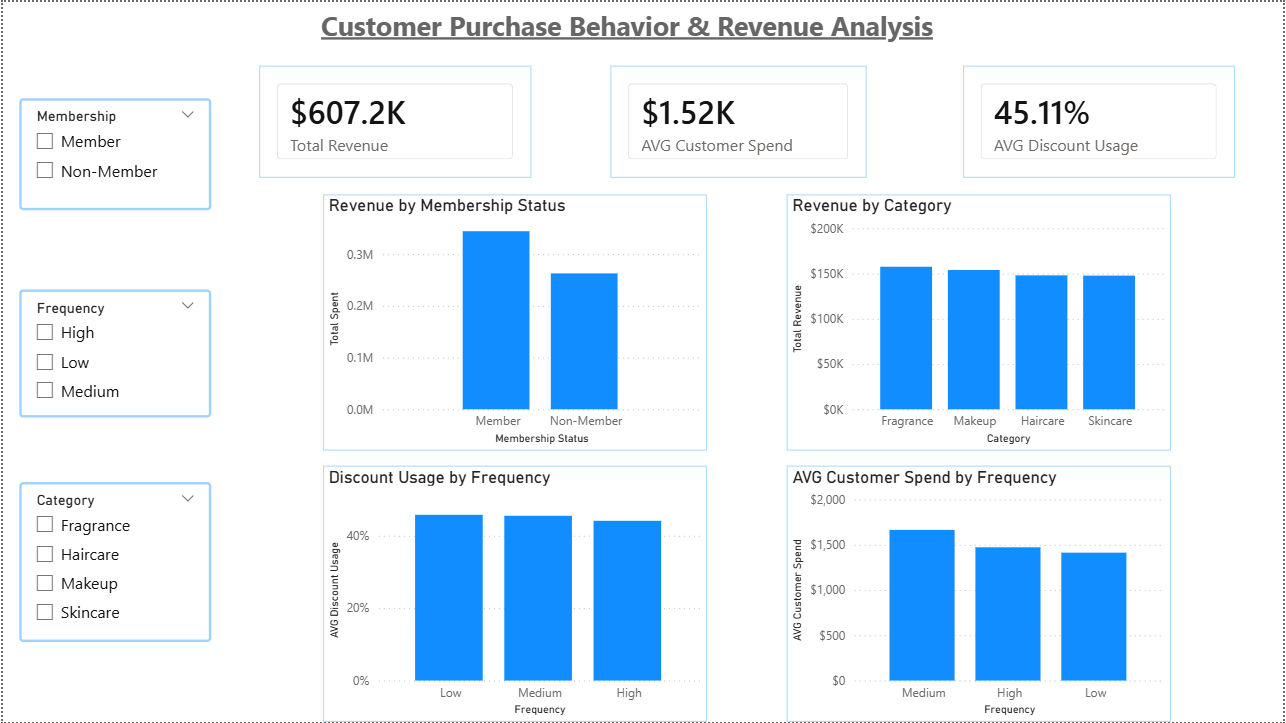

What the dashboard file says about the page in this screenshot:
{"tool":"powerbi","page":{"name":"Page 1","canvas":[1280,720],"ordinal":0},"visuals":[{"type":"cardVisual","fields":{"Data":["fashion_retail_customers.Total Revenue"]},"box":[256,64,272,112],"z":0},{"type":"cardVisual","fields":{"Data":["fashion_retail_customers.AVG Customer Spend"]},"box":[608,64,256,112],"z":1000},{"type":"cardVisual","fields":{"Data":["fashion_retail_customers.AVG Discount Usage"]},"box":[960,64,272,112],"z":2000},{"type":"clusteredColumnChart","title":"Revenue by Category","fields":{"Category":["fashion_retail_customers.preferred_category"],"Y":["fashion_retail_customers.Total Revenue"]},"box":[784,192,384,256],"z":3000},{"type":"clusteredColumnChart","title":"AVG Customer Spend by Frequency","fields":{"Category":["fashion_retail_customers.purchase_frequency"],"Y":["fashion_retail_customers.AVG Customer Spend"]},"box":[784,464,384,256],"z":4000},{"type":"clusteredColumnChart","title":"Discount Usage by Frequency","fields":{"Category":["fashion_retail_customers.purchase_frequency"],"Y":["fashion_retail_customers.AVG Discount Usage"]},"box":[320,464,384,256],"z":5000},{"type":"slicer","fields":{"Values":["fashion_retail_customers.membership_status"]},"box":[16,96,192,112],"z":6000},{"type":"slicer","fields":{"Values":["fashion_retail_customers.purchase_frequency"]},"box":[16,288,192,128],"z":7000},{"type":"slicer","fields":{"Values":["fashion_retail_customers.preferred_category"]},"box":[16,480,192,160],"z":8000},{"type":"clusteredColumnChart","title":"Revenue by Membership Status","fields":{"Category":["fashion_retail_customers.membership_status"],"Y":["Sum(fashion_retail_customers.total_spent)"]},"box":[320,192,384,256],"z":9000},{"type":"textbox","box":[240,0,768,48],"z":10000}]}

Visuals, with their boxes in screenshot pixels (x1, y1, x2, y2), scaled from the page's 1280x720 canvas onto the 1286x723 screenshot:
cardVisual - fashion_retail_customers.Total Revenue: {"x1": 257, "y1": 64, "x2": 530, "y2": 177}
cardVisual - fashion_retail_customers.AVG Customer Spend: {"x1": 611, "y1": 64, "x2": 868, "y2": 177}
cardVisual - fashion_retail_customers.AVG Discount Usage: {"x1": 964, "y1": 64, "x2": 1238, "y2": 177}
"Revenue by Category" clusteredColumnChart: {"x1": 788, "y1": 193, "x2": 1173, "y2": 450}
"AVG Customer Spend by Frequency" clusteredColumnChart: {"x1": 788, "y1": 466, "x2": 1173, "y2": 722}
"Discount Usage by Frequency" clusteredColumnChart: {"x1": 322, "y1": 466, "x2": 707, "y2": 722}
slicer - fashion_retail_customers.membership_status: {"x1": 16, "y1": 96, "x2": 209, "y2": 209}
slicer - fashion_retail_customers.purchase_frequency: {"x1": 16, "y1": 289, "x2": 209, "y2": 418}
slicer - fashion_retail_customers.preferred_category: {"x1": 16, "y1": 482, "x2": 209, "y2": 643}
"Revenue by Membership Status" clusteredColumnChart: {"x1": 322, "y1": 193, "x2": 707, "y2": 450}
textbox: {"x1": 241, "y1": 0, "x2": 1013, "y2": 48}
